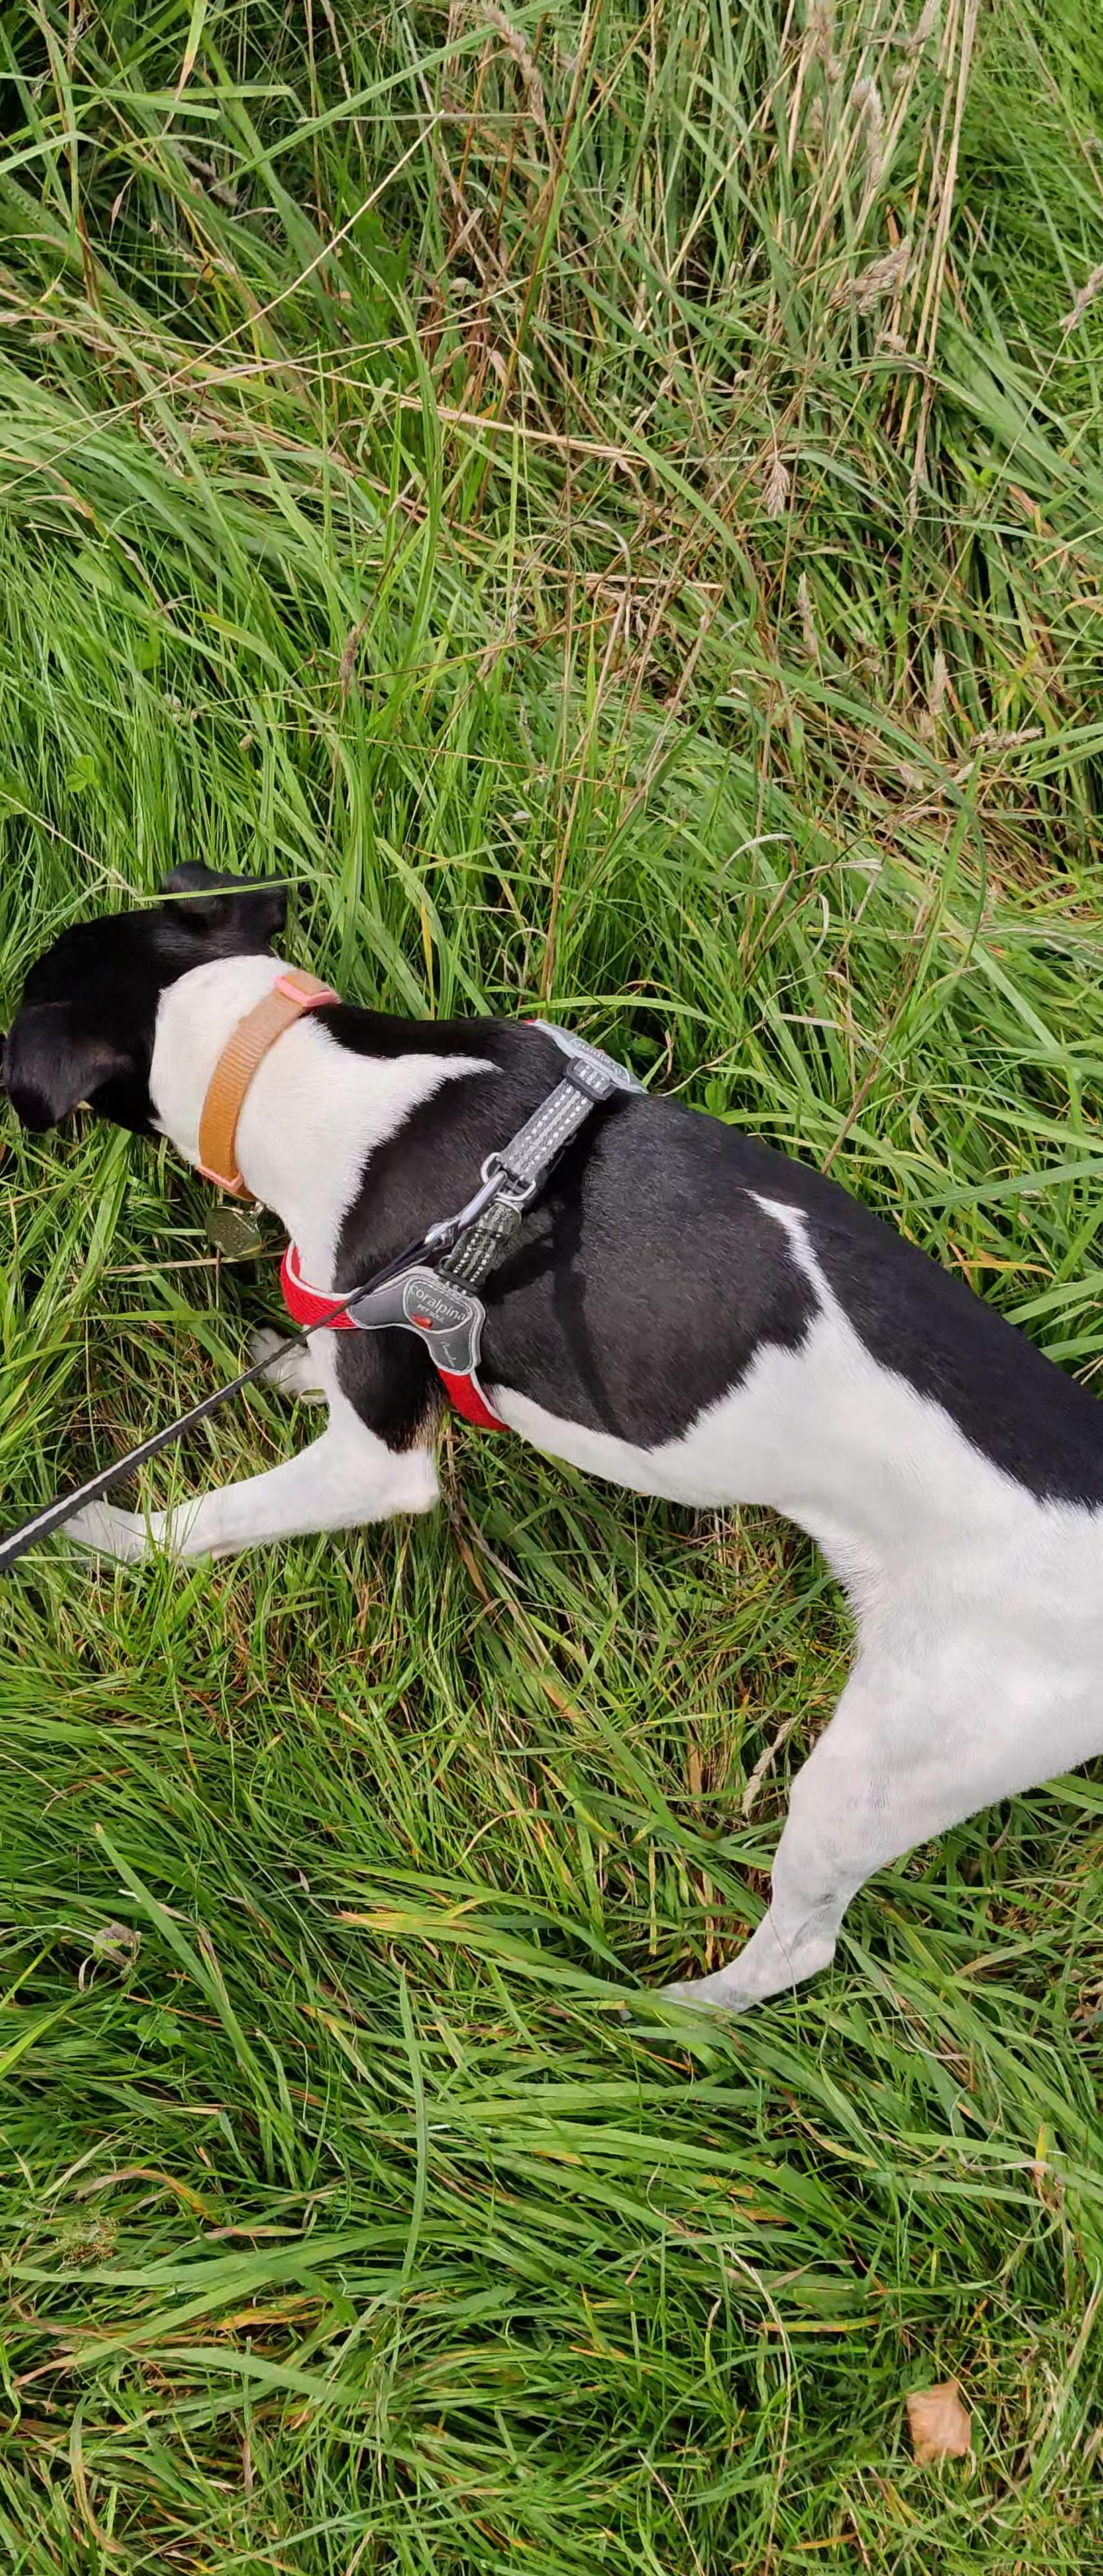Dog: (0, 838, 1103, 2024)
